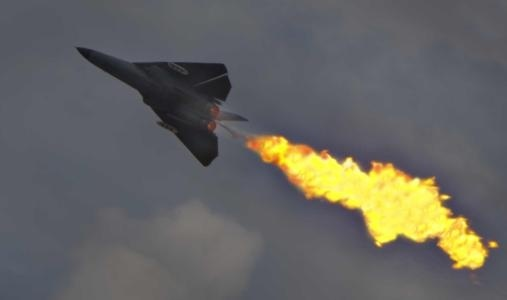fire: (242, 129, 503, 276)
